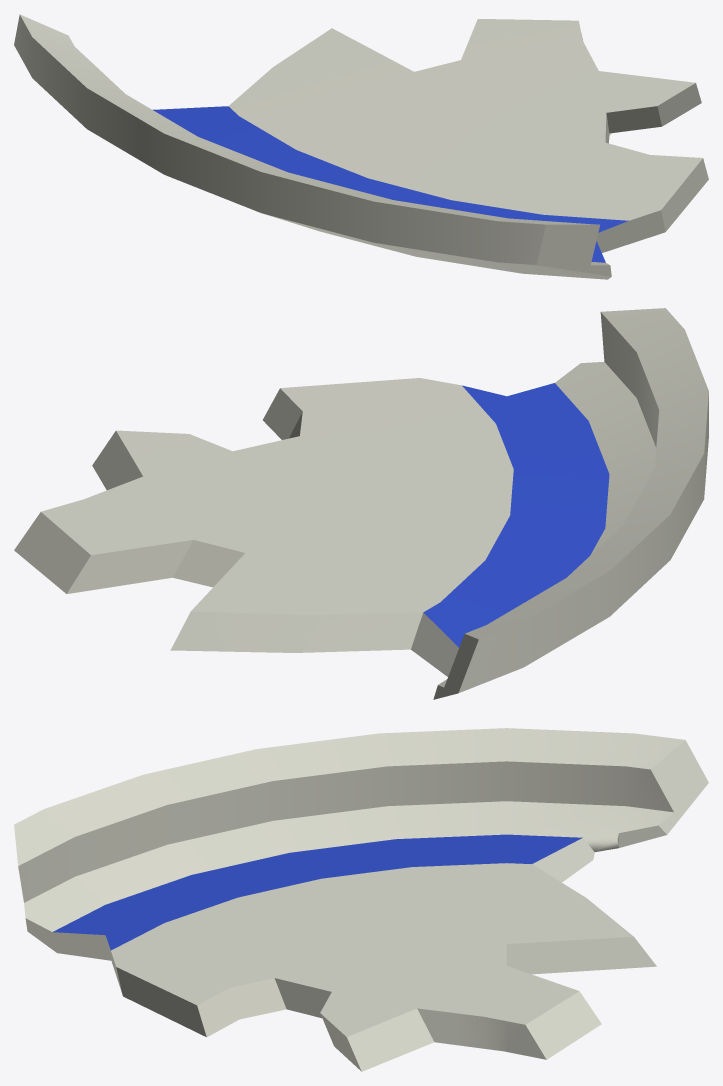
File: plate-piece.fbx
The picture shows the model from 3 angles, top to bottom: view 1: azimuth 30°, elevation 25°; view 2: azimuth 150°, elevation 25°; view 3: azimuth 270°, elevation 25°; orthographic projection. The views are drawn at different scales.
Visible parts, largest first — view 1: Cylinder; view 2: Cylinder; view 3: Cylinder.
Boxes of the visible parts, left/top/right/bottom form: Cylinder: left=14, top=14, right=708, bottom=279; Cylinder: left=14, top=308, right=708, bottom=699; Cylinder: left=14, top=728, right=708, bottom=1071.
Size of the model in its own units: 92.2 by 14.99 by 106.
